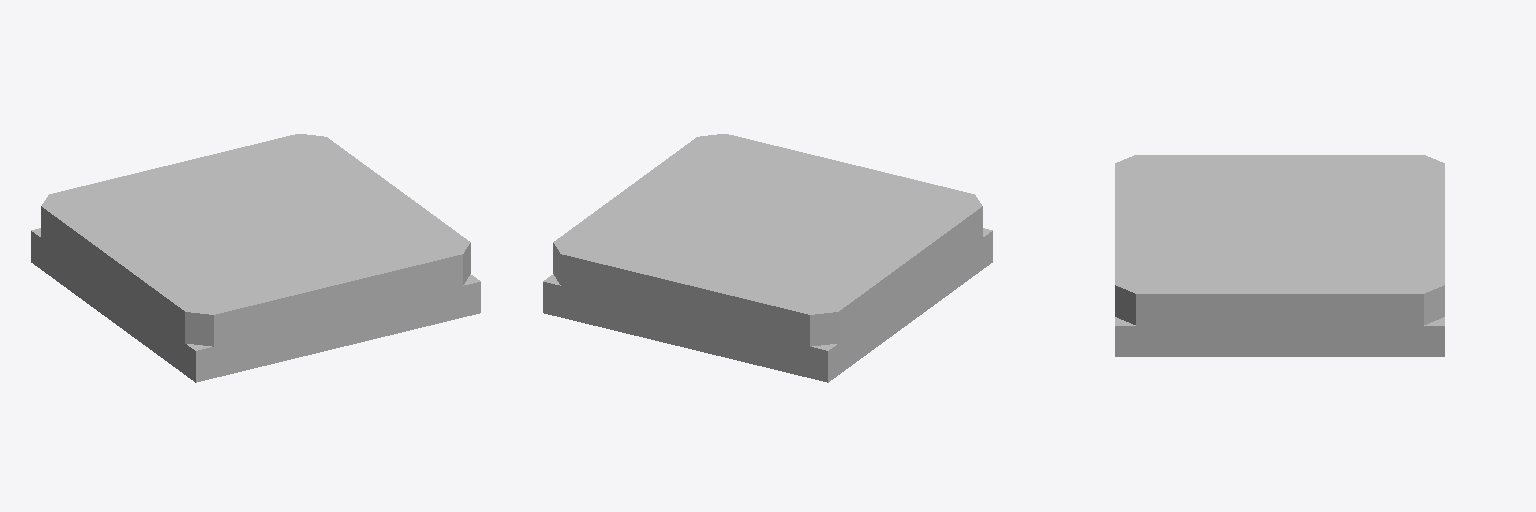
Rendered from roof-flat-detail-a.obj.
3 renders of one model, left to right at view 1: azimuth 30°, elevation 25°; view 2: azimuth 150°, elevation 25°; view 3: azimuth 270°, elevation 25°, orthographic.
Parts seen in each view (by area): view 1: roof-flat-detail-a; view 2: roof-flat-detail-a; view 3: roof-flat-detail-a.
Part boxes in pixels (bbox=[...]): roof-flat-detail-a: bbox=[31, 134, 480, 382]; roof-flat-detail-a: bbox=[543, 134, 992, 382]; roof-flat-detail-a: bbox=[1115, 155, 1444, 356].
Bounding box in the file's own units: 1 × 0.2125 × 1.